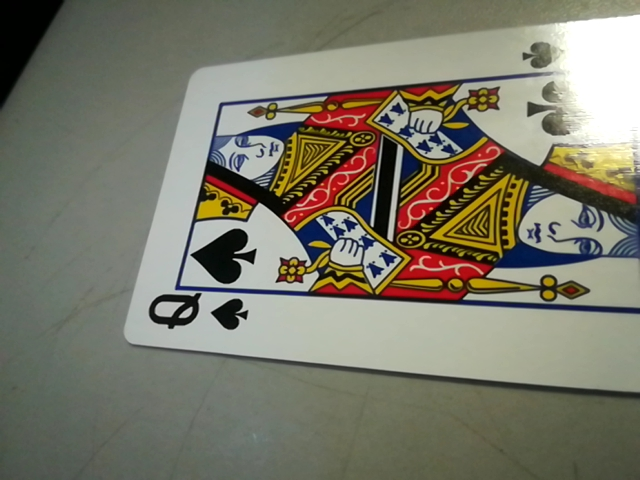ht q: (127, 280, 256, 345)
